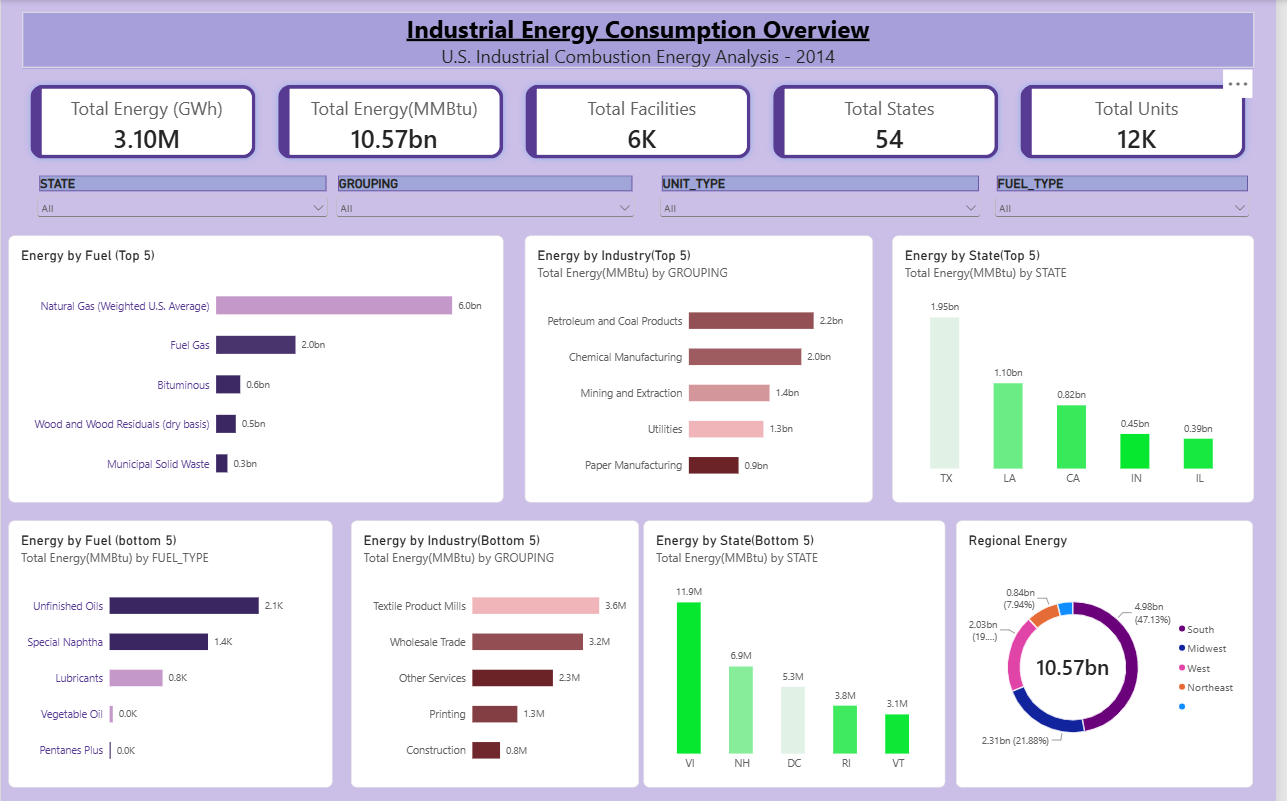

The page's visual inventory and layout, read from the dashboard file:
{"tool":"powerbi","page":{"name":"Industrial Energy Consumption Overview","canvas":[1700,1080],"ordinal":0},"visuals":[{"type":"cardVisual","fields":{"Data":["Industrial Energy.Total Energy (GWh)","Industrial Energy.Total Energy(MMBtu)","Industrial Energy.Total Facilities","Industrial Energy.Total States","Industrial Energy.Total Units"]},"box":[27.7,105.4,1642,120],"z":0},{"type":"clusteredBarChart","title":"Energy by Fuel (Top 5)","fields":{"Category":["Industrial Energy.FUEL_TYPE"],"Y":["Industrial Energy.Total Energy(MMBtu)"]},"box":[10,316,660,356],"z":1000},{"type":"barChart","title":"Energy by Industry(Top 5)","fields":{"Category":["Industrial Energy.GROUPING"],"Y":["Industrial Energy.Total Energy(MMBtu)"]},"box":[698,316,464,356],"z":2000},{"type":"columnChart","title":"Energy by State(Top 5)","fields":{"Category":["Industrial Energy.STATE"],"Y":["Industrial Energy.Total Energy(MMBtu)"]},"box":[1188,316,482,356],"z":3000},{"type":"donutChart","title":"Regional Energy","fields":{"Category":["Industrial Energy.MECS_Region"],"Y":["Industrial Energy.Total Energy(MMBtu)"]},"box":[1274,696,396,356],"z":4000},{"type":"slicer","fields":{"Values":["Industrial Energy.STATE"]},"box":[44,236,398,94],"z":5000},{"type":"clusteredBarChart","title":"Energy by Fuel (bottom 5)","fields":{"Category":["Industrial Energy.FUEL_TYPE"],"Y":["Industrial Energy.Total Energy(MMBtu)"]},"box":[10,696,432,356],"z":6000},{"type":"barChart","title":"Energy by Industry(Bottom 5)","fields":{"Category":["Industrial Energy.GROUPING"],"Y":["Industrial Energy.Total Energy(MMBtu)"]},"box":[466,696,384,356],"z":7000},{"type":"columnChart","title":"Energy by State(Bottom 5)","fields":{"Category":["Industrial Energy.STATE"],"Y":["Industrial Energy.Total Energy(MMBtu)"]},"box":[856,696,402,356],"z":8000},{"type":"slicer","fields":{"Values":["Industrial Energy.FUEL_TYPE"]},"box":[1320,236,350,76],"z":9000},{"type":"slicer","fields":{"Values":["Industrial Energy.GROUPING"]},"box":[442,236,408,60],"z":10000},{"type":"slicer","fields":{"Values":["Industrial Energy.UNIT_TYPE"]},"box":[874,236,438,82],"z":11000},{"type":"textbox","box":[28,18,1642,76],"z":11001}]}

Visuals, with their boxes in screenshot pixels (x1, y1, x2, y2), scaled from the page's 1700x1080 canvas onto the 1287x801 screenshot:
cardVisual - Industrial Energy.Total Energy (GWh) x Industrial Energy.Total Energy(MMBtu): [21, 78, 1264, 167]
"Energy by Fuel (Top 5)" clusteredBarChart: [8, 234, 507, 498]
"Energy by Industry(Top 5)" barChart: [528, 234, 880, 498]
"Energy by State(Top 5)" columnChart: [899, 234, 1264, 498]
"Regional Energy" donutChart: [964, 516, 1264, 780]
slicer - Industrial Energy.STATE: [33, 175, 335, 245]
"Energy by Fuel (bottom 5)" clusteredBarChart: [8, 516, 335, 780]
"Energy by Industry(Bottom 5)" barChart: [353, 516, 644, 780]
"Energy by State(Bottom 5)" columnChart: [648, 516, 952, 780]
slicer - Industrial Energy.FUEL_TYPE: [999, 175, 1264, 231]
slicer - Industrial Energy.GROUPING: [335, 175, 644, 220]
slicer - Industrial Energy.UNIT_TYPE: [662, 175, 993, 236]
textbox: [21, 13, 1264, 70]
